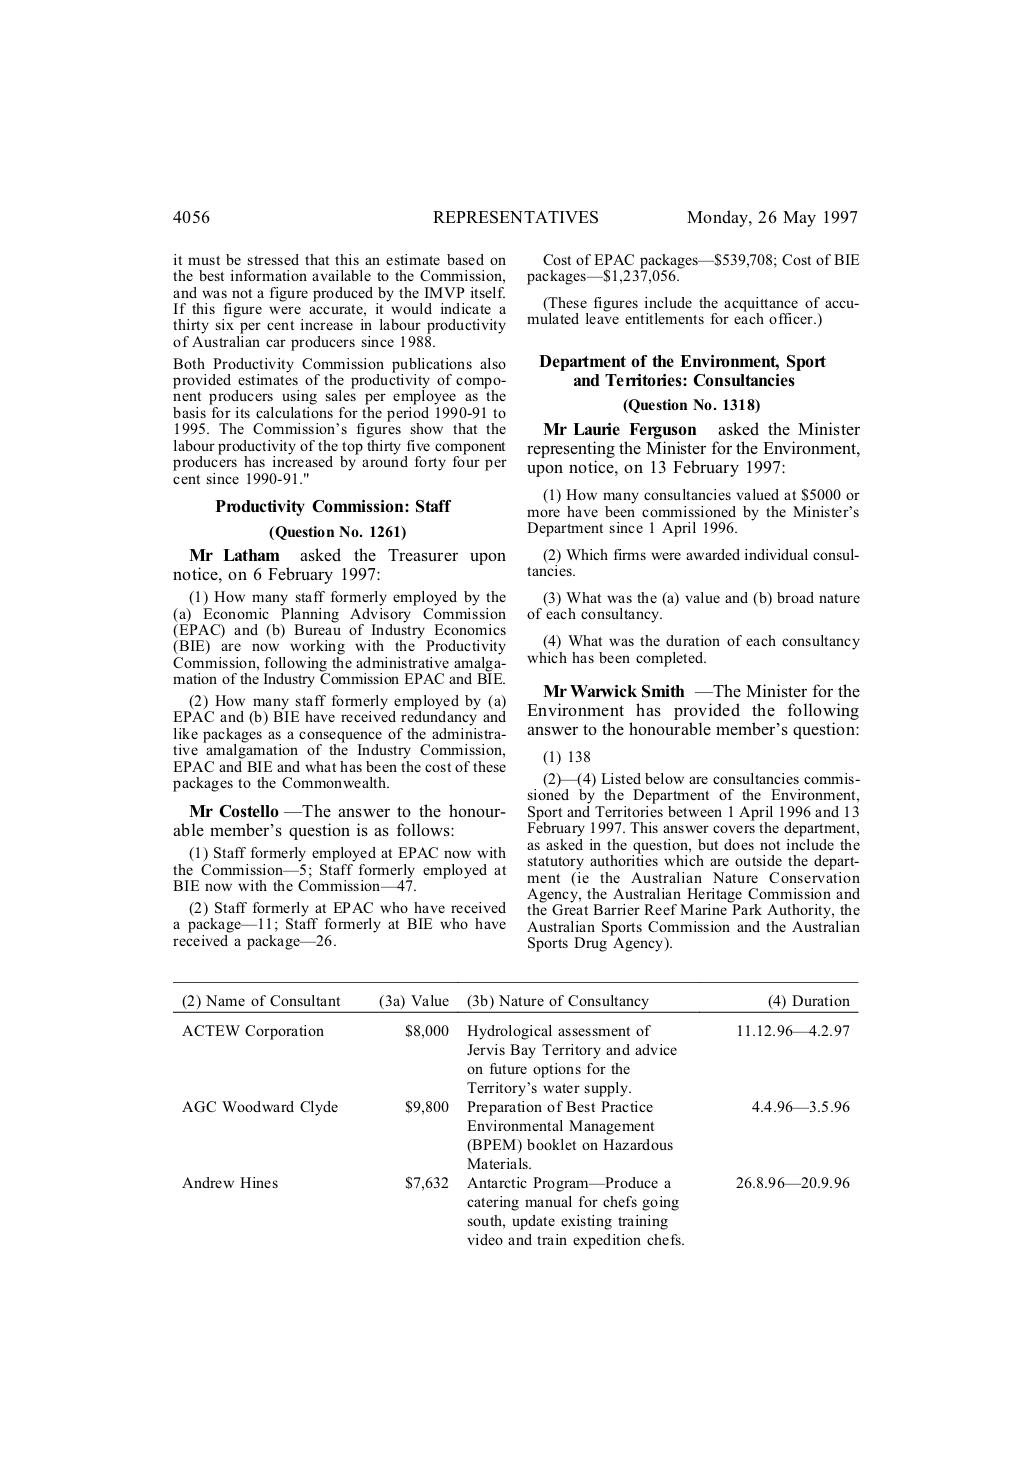Table: (173, 982, 858, 1248)
